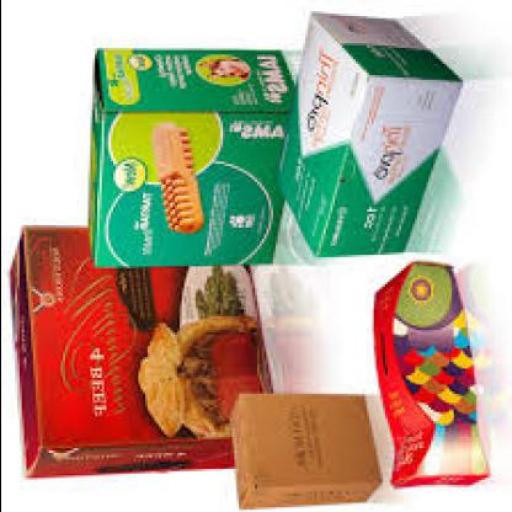cardboard: (4, 223, 273, 471), (275, 11, 459, 252), (87, 48, 292, 262), (370, 262, 488, 486), (231, 392, 379, 504)
